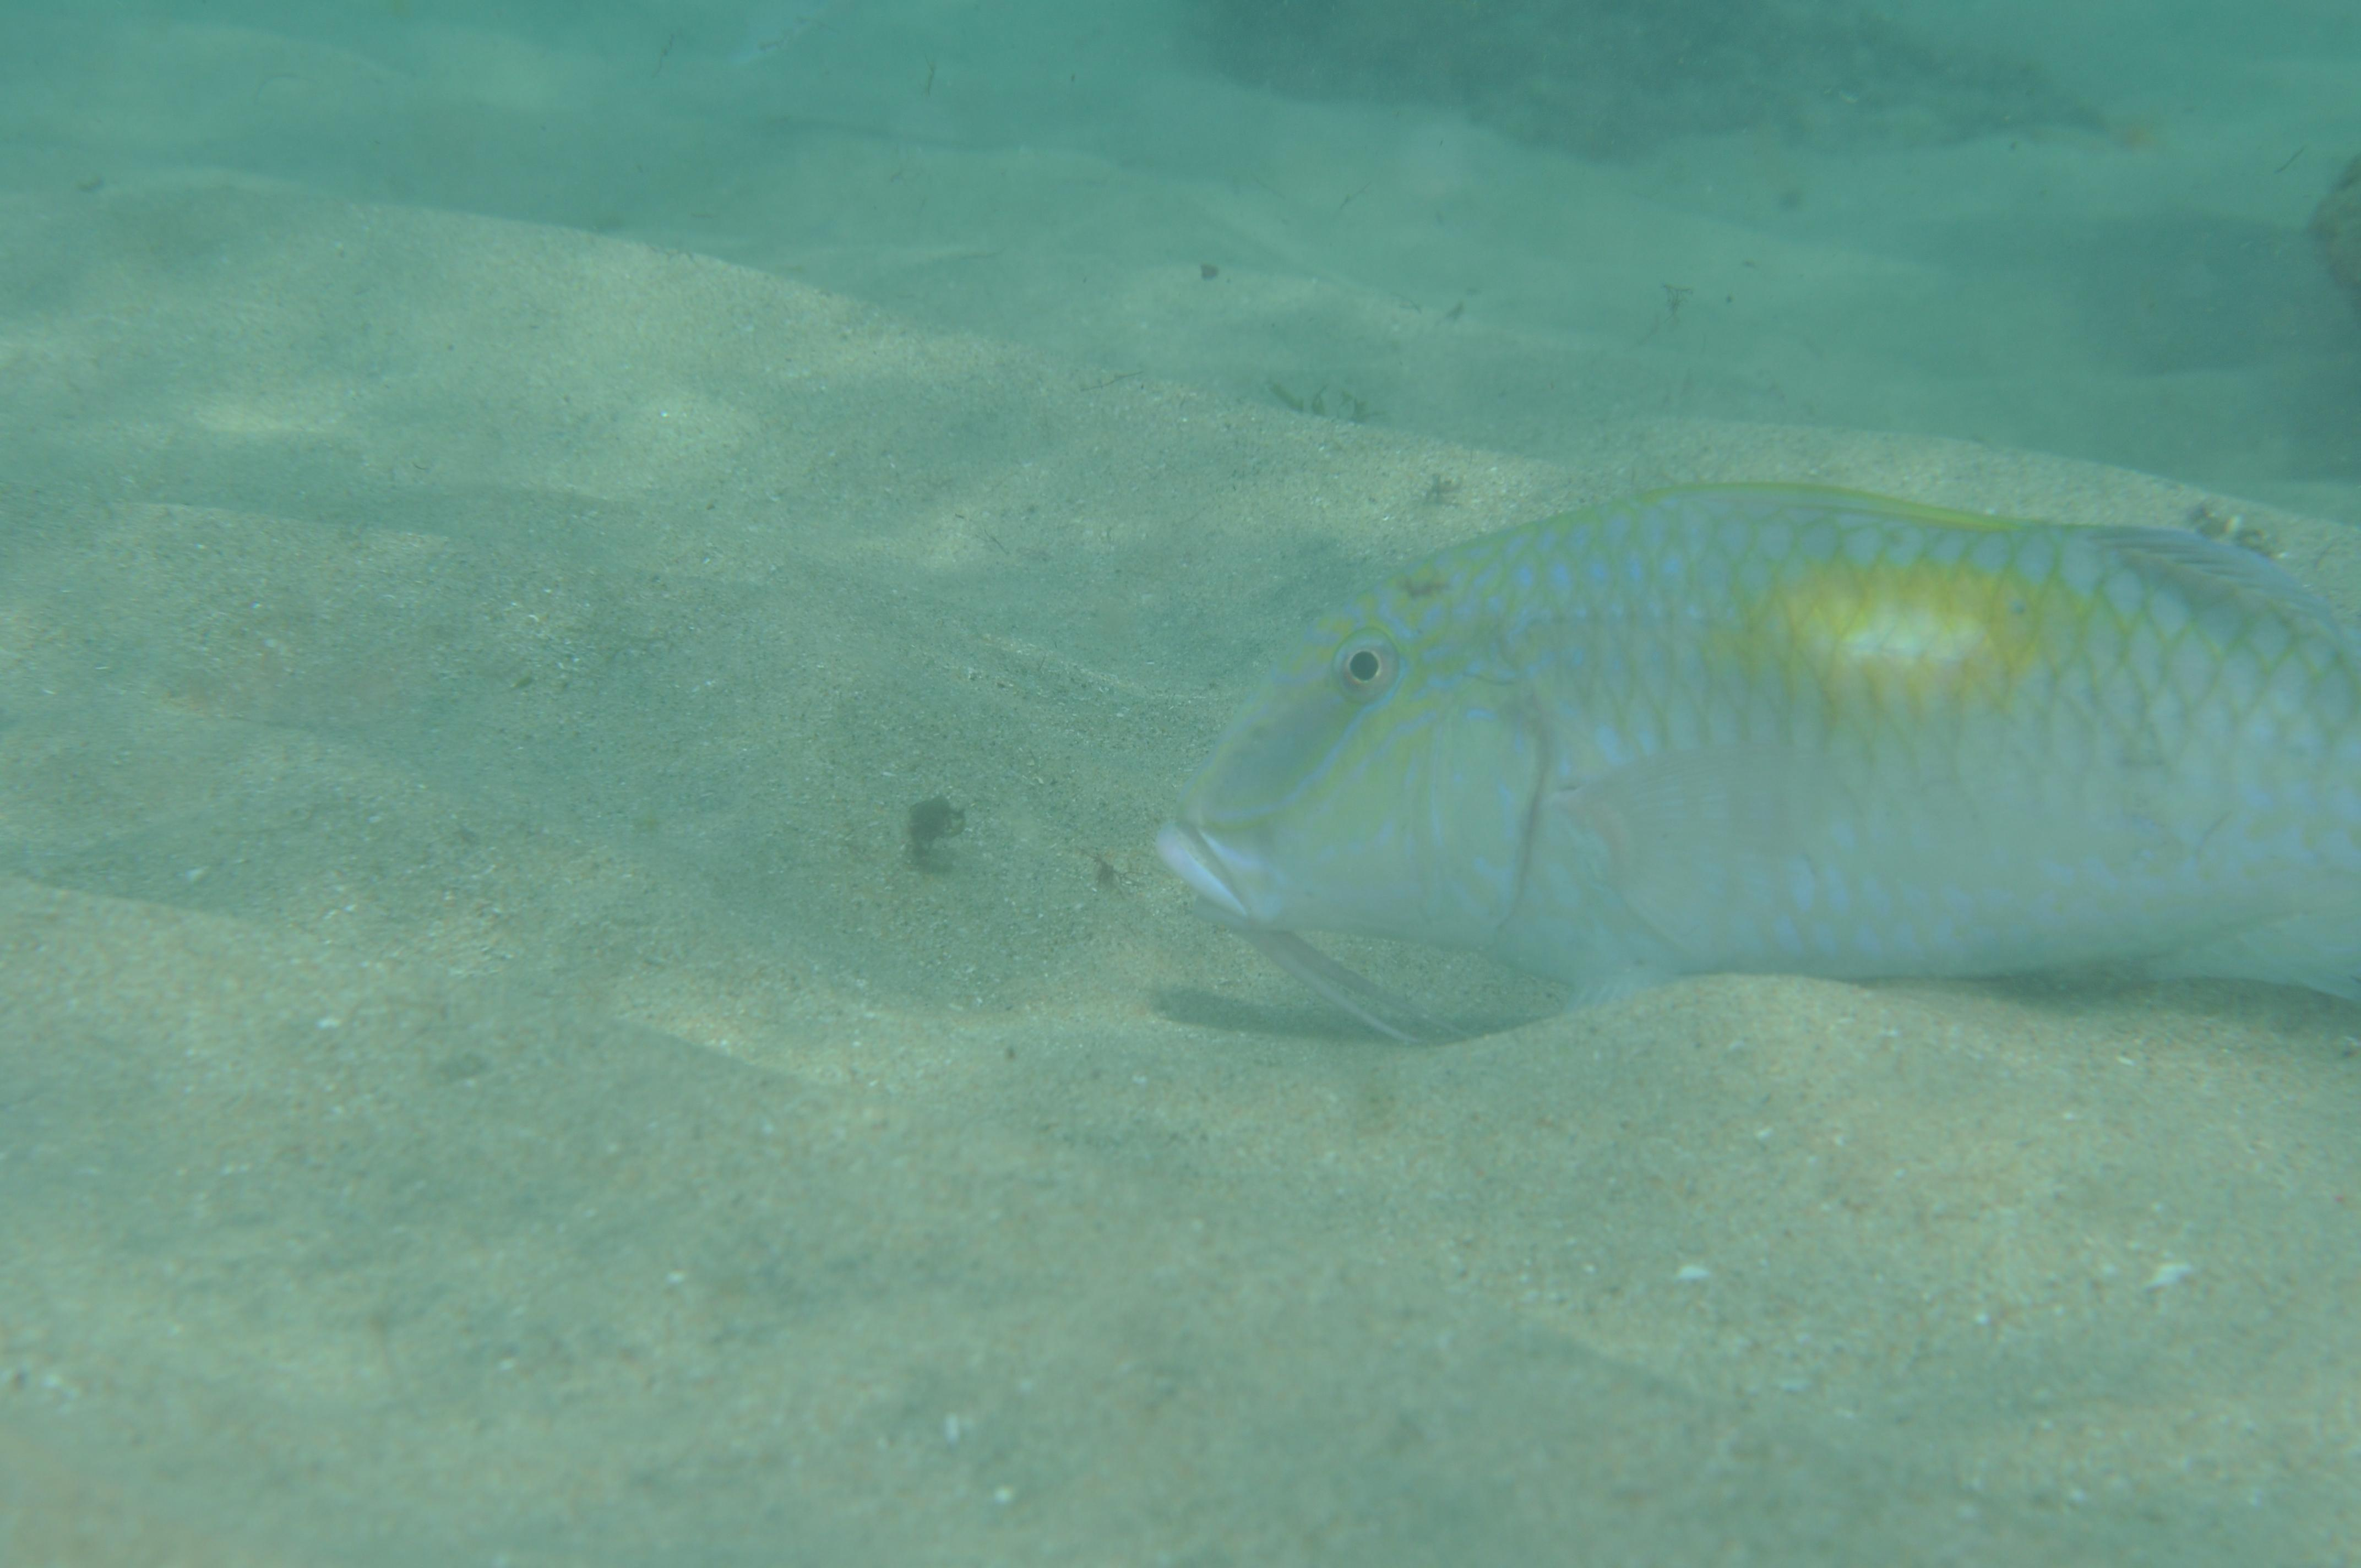Fish: (999, 469, 2361, 1104)
